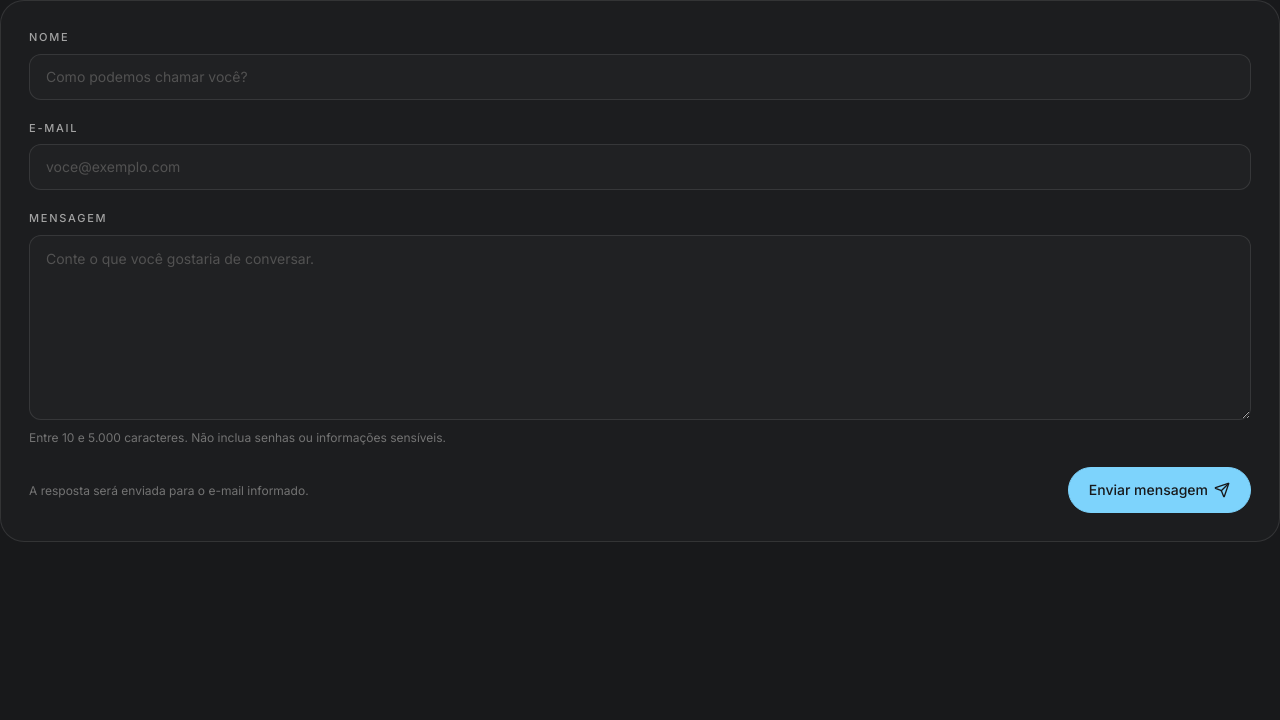
Test: ContactForm › normaliza os dados e apresenta o feedback da resposta 202
The image size is (1280, 720).
Type "Pessoa Leitora" into the field labelled "Nome". click: [640, 76]
box: [29,54,1251,100]
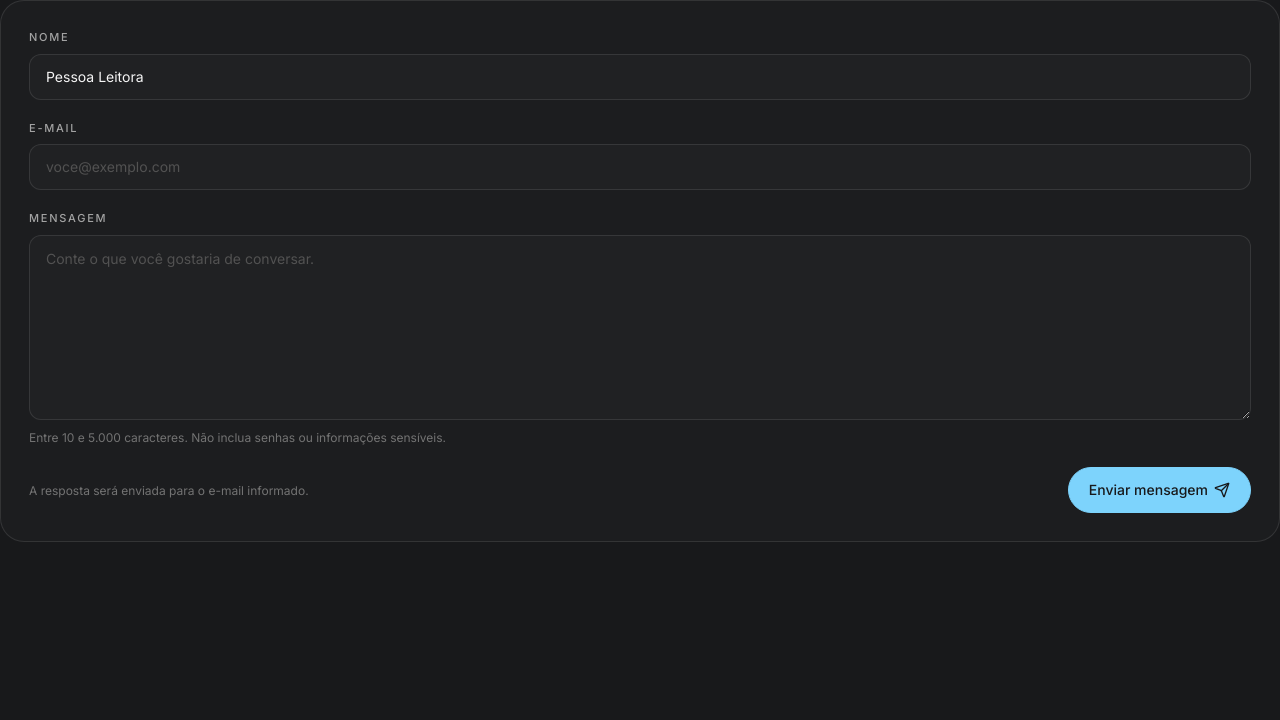
Type "LEITOR@EXAMPLE.COM " into the field labelled "E-mail". click: [640, 167]
box: [29,144,1251,190]
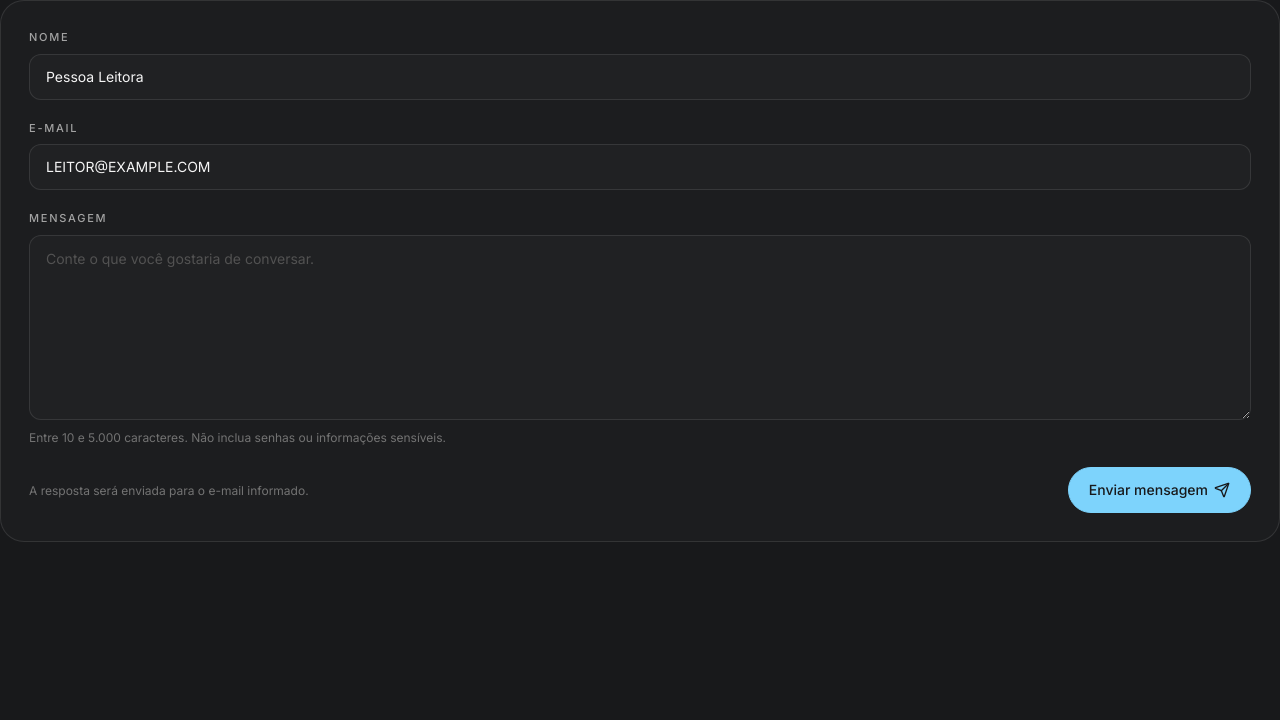
Type "  Gostaria de sugerir uma pauta para o blog.  " into the text box labelled "Mensagem". click: [640, 327]
box: [29,234,1251,420]
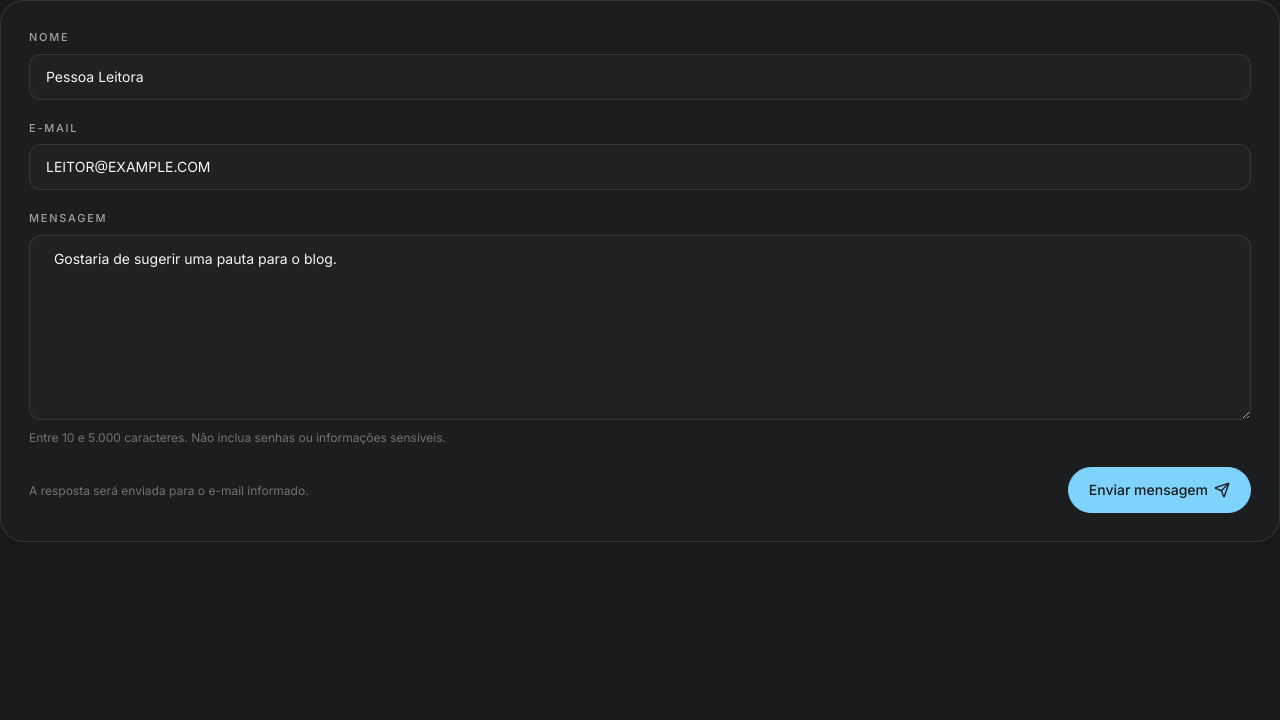
Click the button "Enviar mensagem". click: [1159, 490]
box: [1068,467,1251,513]
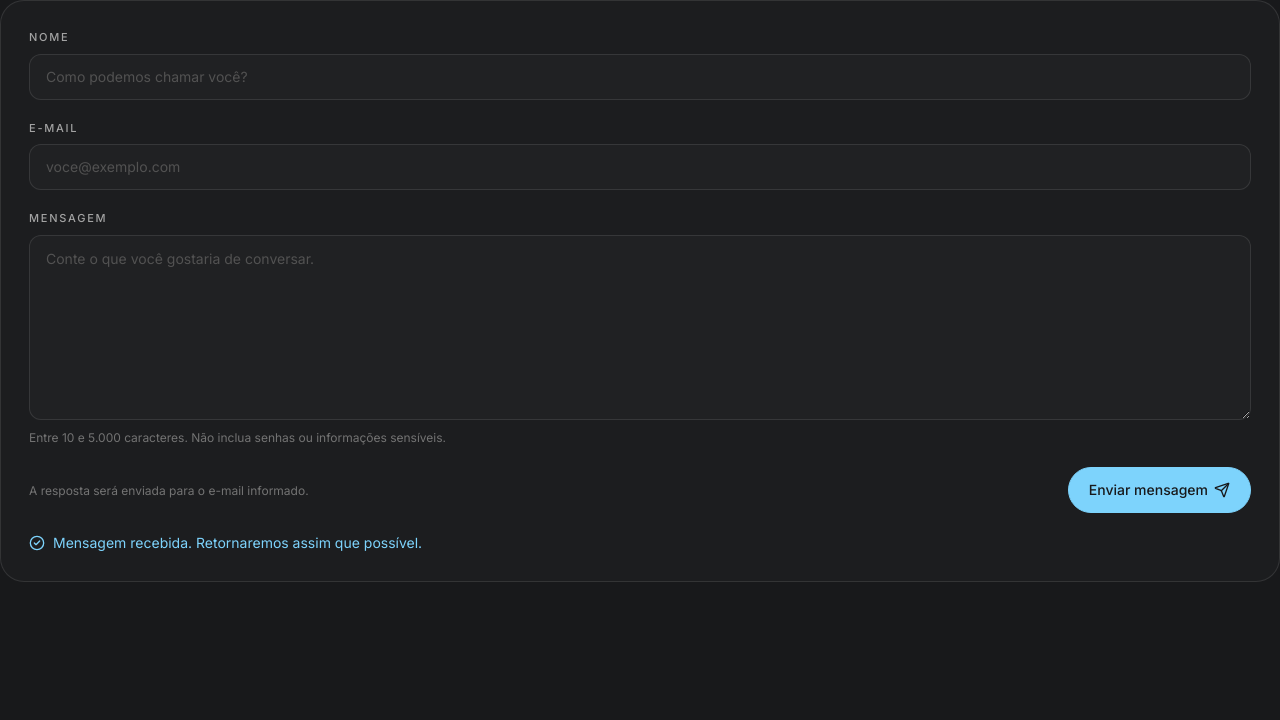
Expected: the message reads "Mensagem recebida. Retornaremos assim que possível.", [53,534,422,551]
Expected: the field labelled "Nome" is empty, [29,54,1251,100]
